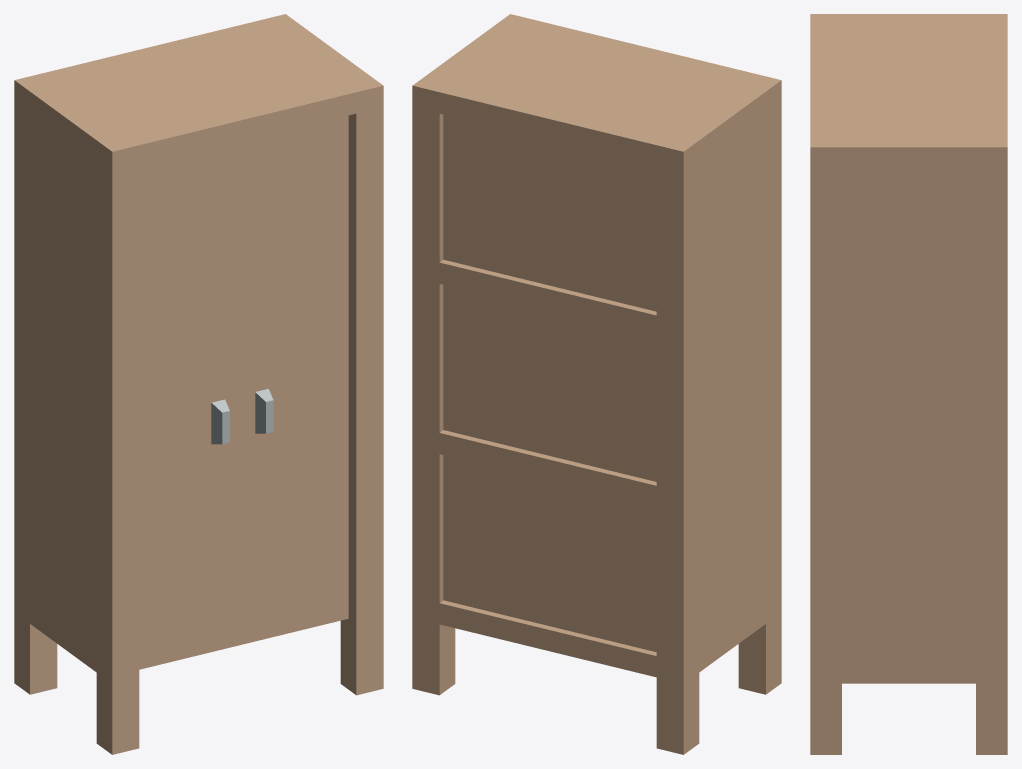
File: bookcaseClosedDoors.glb
3 renders of one model, left to right at view 1: azimuth 30°, elevation 25°; view 2: azimuth 150°, elevation 25°; view 3: azimuth 270°, elevation 25°, orthographic.
Parts seen in each view (by area): view 1: bookcaseClosedDoors; view 2: bookcaseClosedDoors; view 3: bookcaseClosedDoors.
Part boxes in pixels (x1=…): bookcaseClosedDoors: x1=14, y1=14, x2=383, y2=754; bookcaseClosedDoors: x1=412, y1=14, x2=781, y2=754; bookcaseClosedDoors: x1=810, y1=14, x2=1007, y2=754.
Size of the model in its own units: 0.4 by 0.85 by 0.25.
